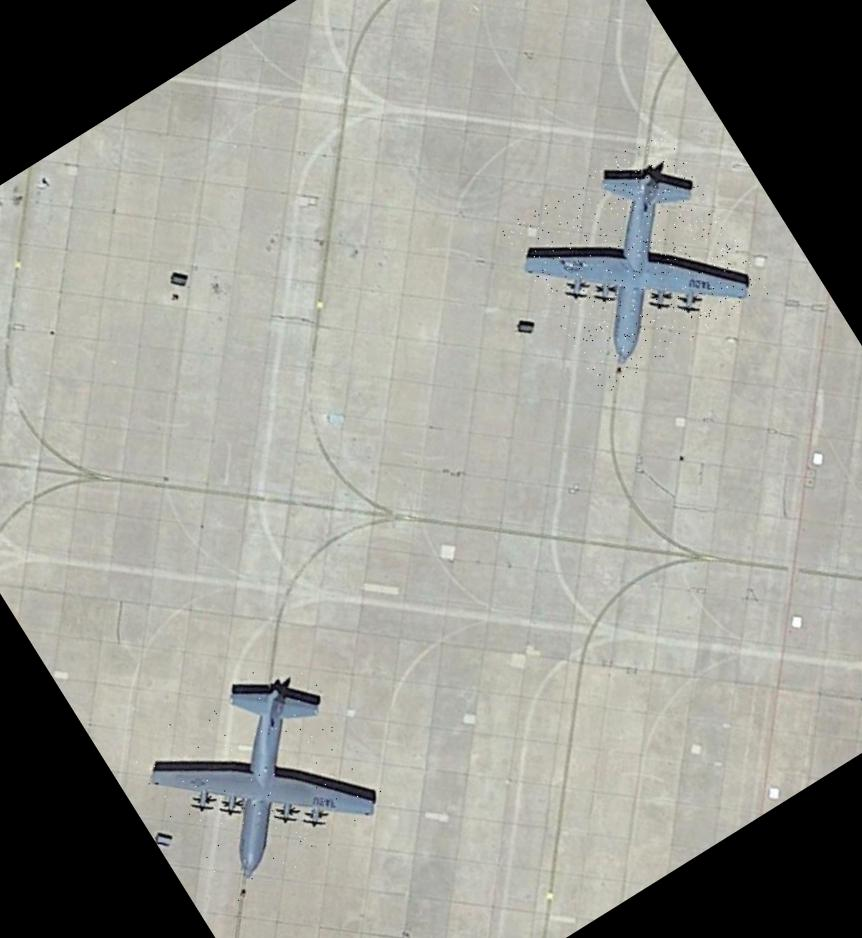A2: (124, 640, 396, 912), (500, 126, 769, 396)
